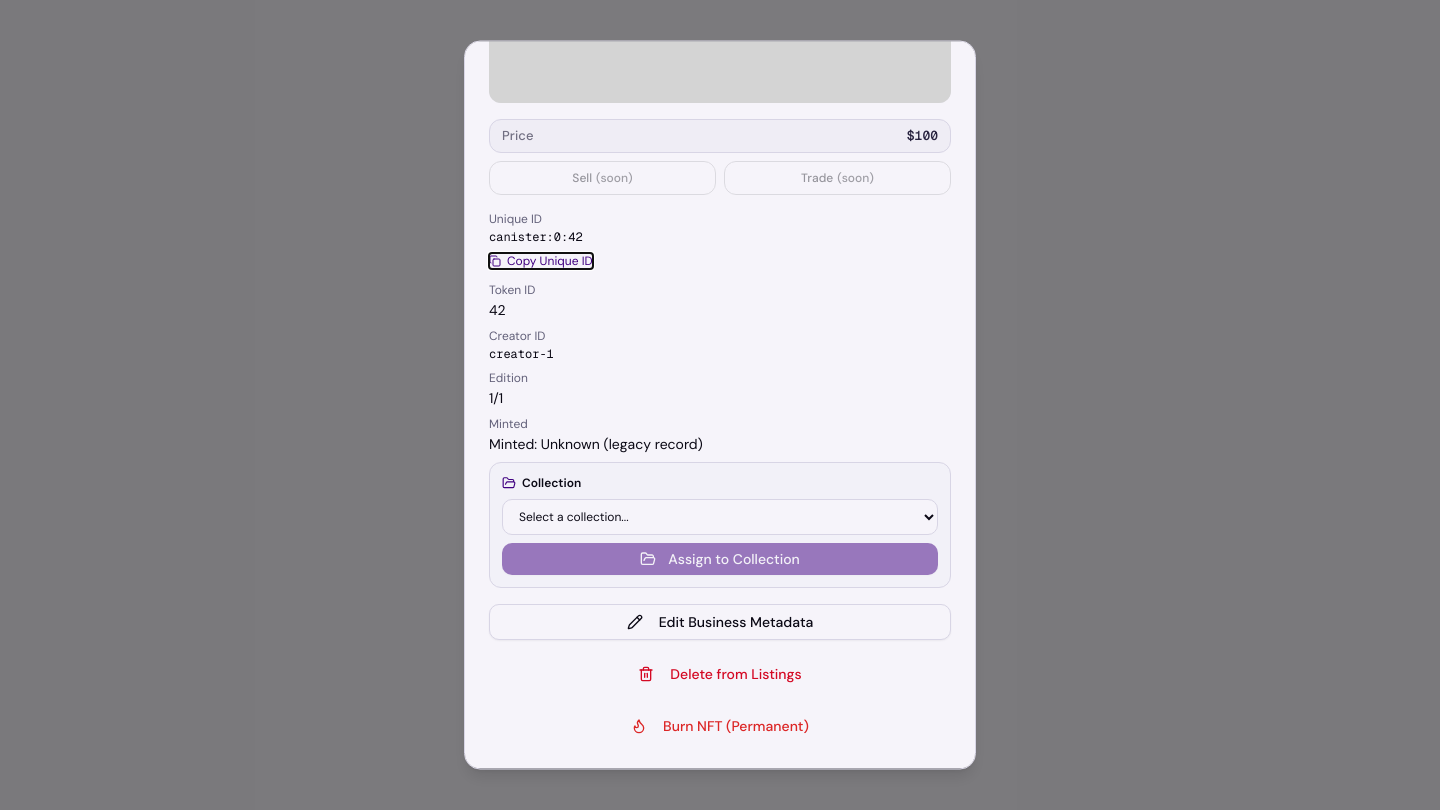
Test: NftDetailModal price editing (characterization) › pre-fills the edit form with the current whole-value price
(page scrolled)
Click the button "Edit Business Metadata" at coordinates (720, 622), box [489,604,951,640]
(page scrolled)
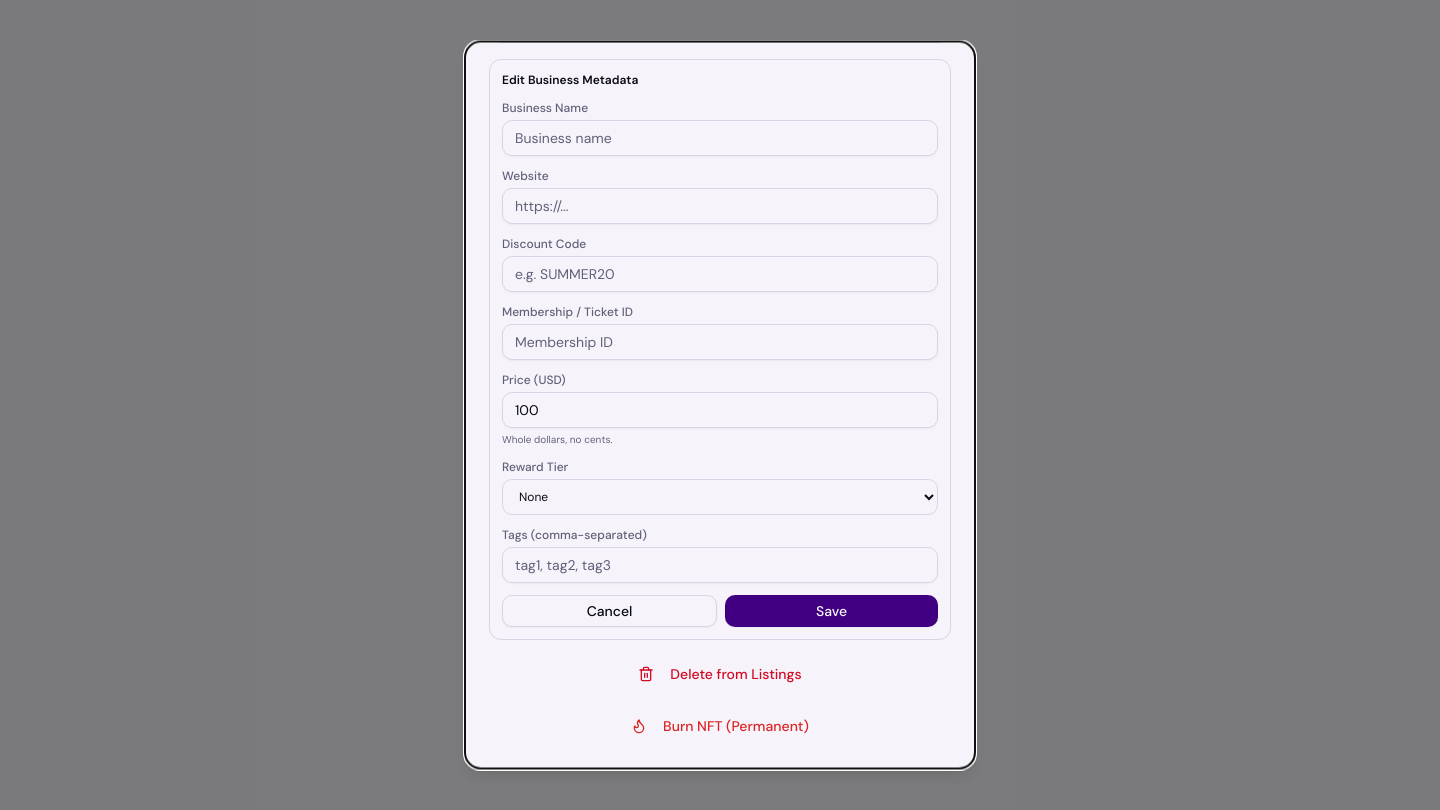
Expected: the number field holds "100", [502,392,938,428]
